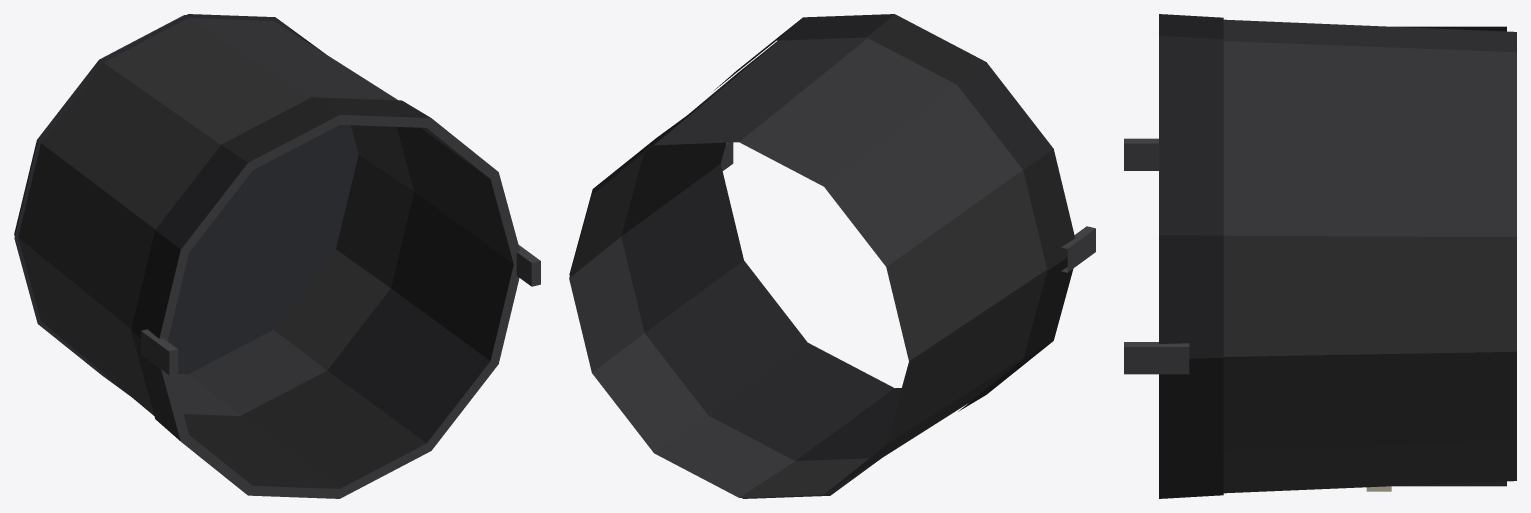
File: a_bag_xl.obj
3 renders of one model, left to right at view 1: azimuth 30°, elevation 25°; view 2: azimuth 150°, elevation 25°; view 3: azimuth 270°, elevation 25°, orthographic. The views are drawn at different scales.
Bounding box in the file's own units: 0.984 × 0.9804 × 0.7843.
1 material, 1 textured.
